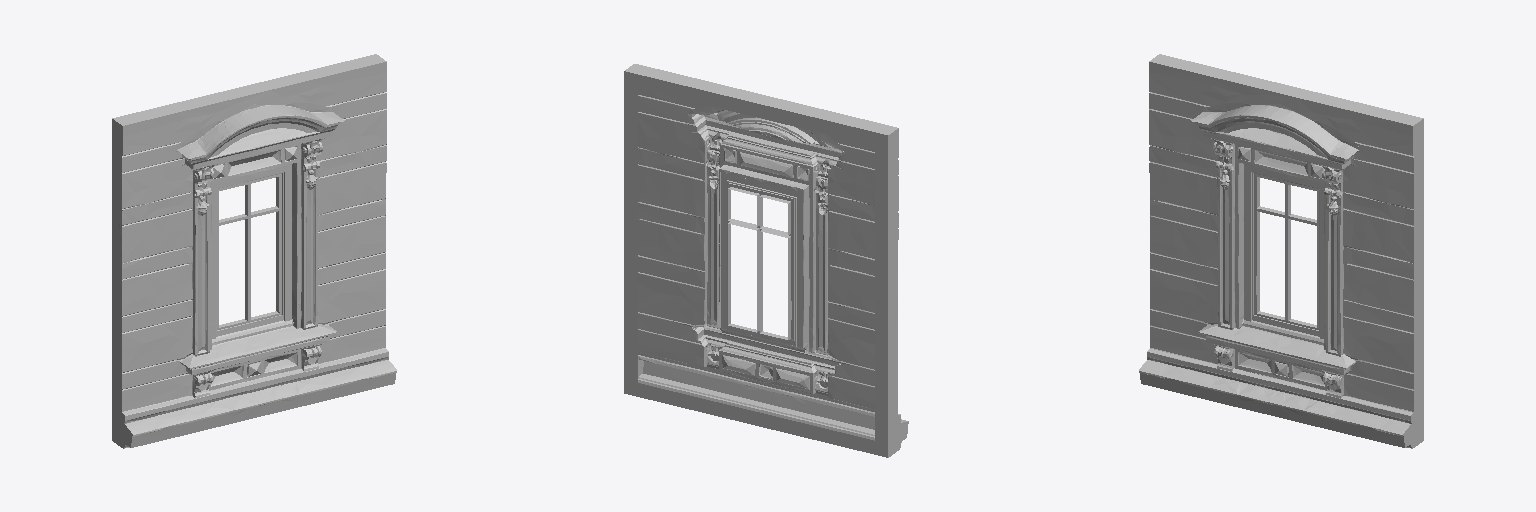
The model's file is window.obj.
3 renders of one model, left to right at view 1: azimuth 30°, elevation 25°; view 2: azimuth 150°, elevation 25°; view 3: azimuth 330°, elevation 25°, orthographic.
Visible parts, largest first — view 1: Aset_building_combined_M_vdisaihdw_LOD2; view 2: Aset_building_combined_M_vdisaihdw_LOD2; view 3: Aset_building_combined_M_vdisaihdw_LOD2.
Boxes of the visible parts, <box> form: Aset_building_combined_M_vdisaihdw_LOD2: <box>112,54,396,448</box>; Aset_building_combined_M_vdisaihdw_LOD2: <box>624,64,908,457</box>; Aset_building_combined_M_vdisaihdw_LOD2: <box>1139,54,1423,448</box>.
Bounding box in the file's own units: 300 × 350 × 45.94.